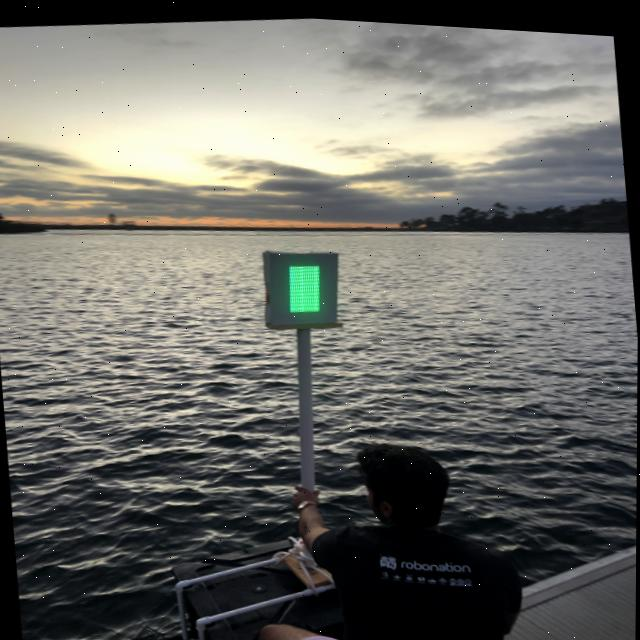led: (271, 246, 334, 323)
